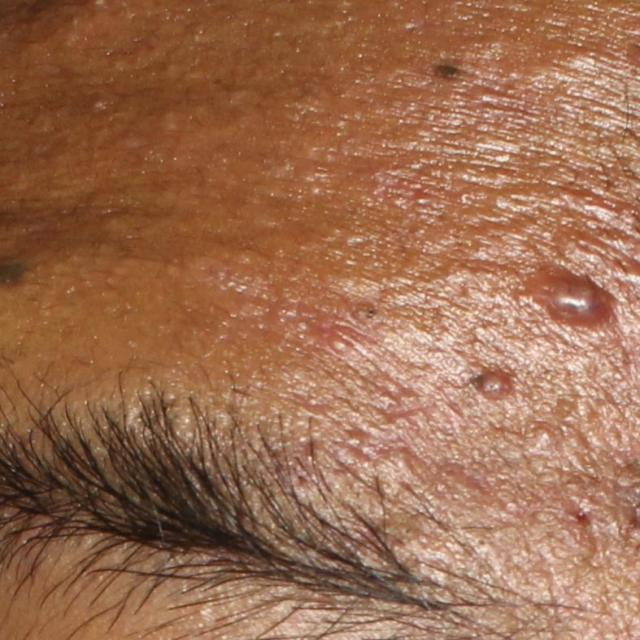nodule: (519, 254, 617, 342), (449, 354, 538, 414)
